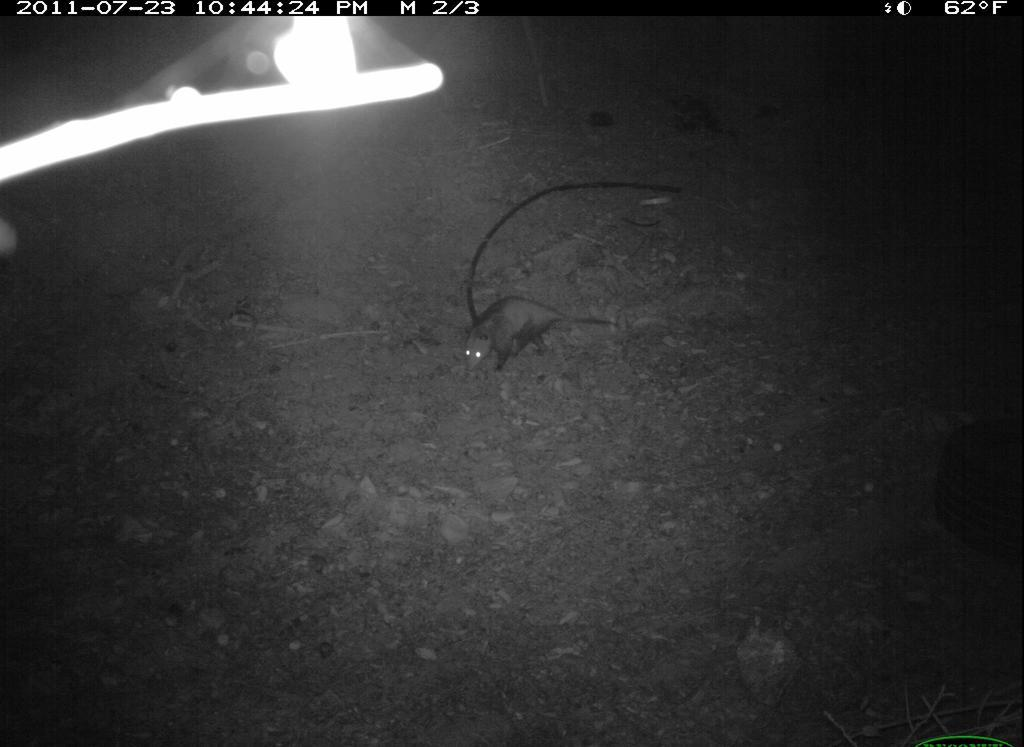opossum: (454, 289, 630, 381)
